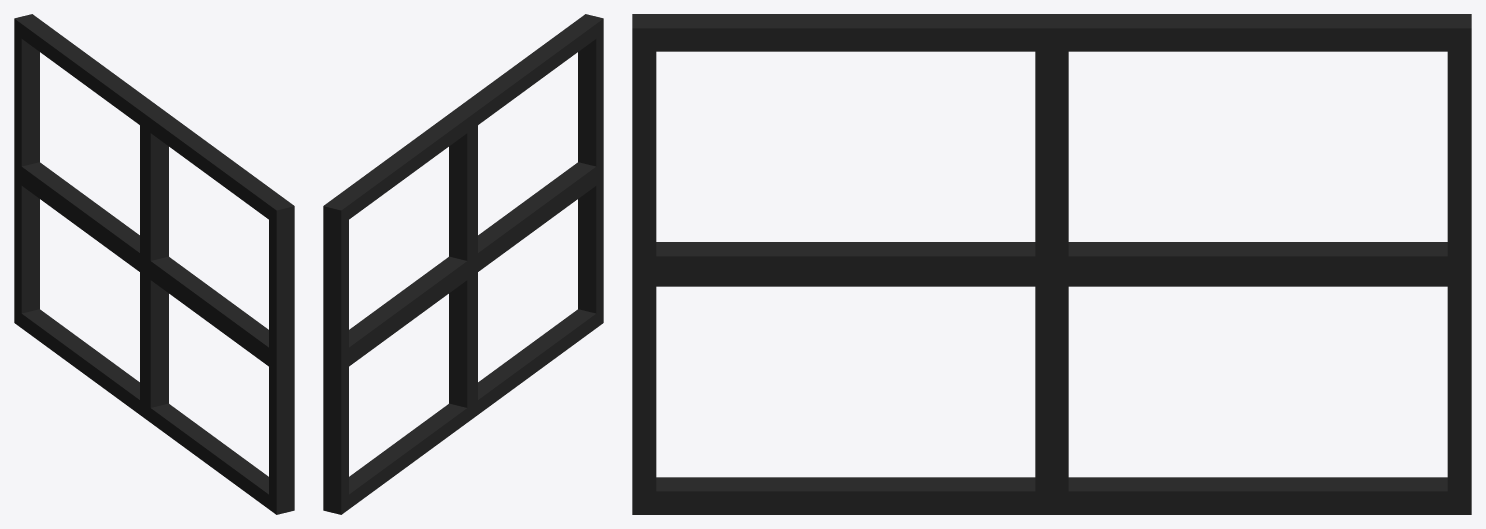
File: Window.glb
3 views of the same model, side by side, from view 1: azimuth 30°, elevation 25°; view 2: azimuth 150°, elevation 25°; view 3: azimuth 270°, elevation 25° (orthographic). The views are drawn at different scales.
Parts seen in each view (by area): view 1: Window; view 2: Window; view 3: Window.
Part boxes in pixels (bbox=[...]): Window: bbox=[14, 14, 294, 514]; Window: bbox=[323, 14, 603, 514]; Window: bbox=[632, 14, 1471, 514].
Size of what is drawn, in the model's own units: 0.2 by 3.2 by 5.
1 material, 1 textured.
